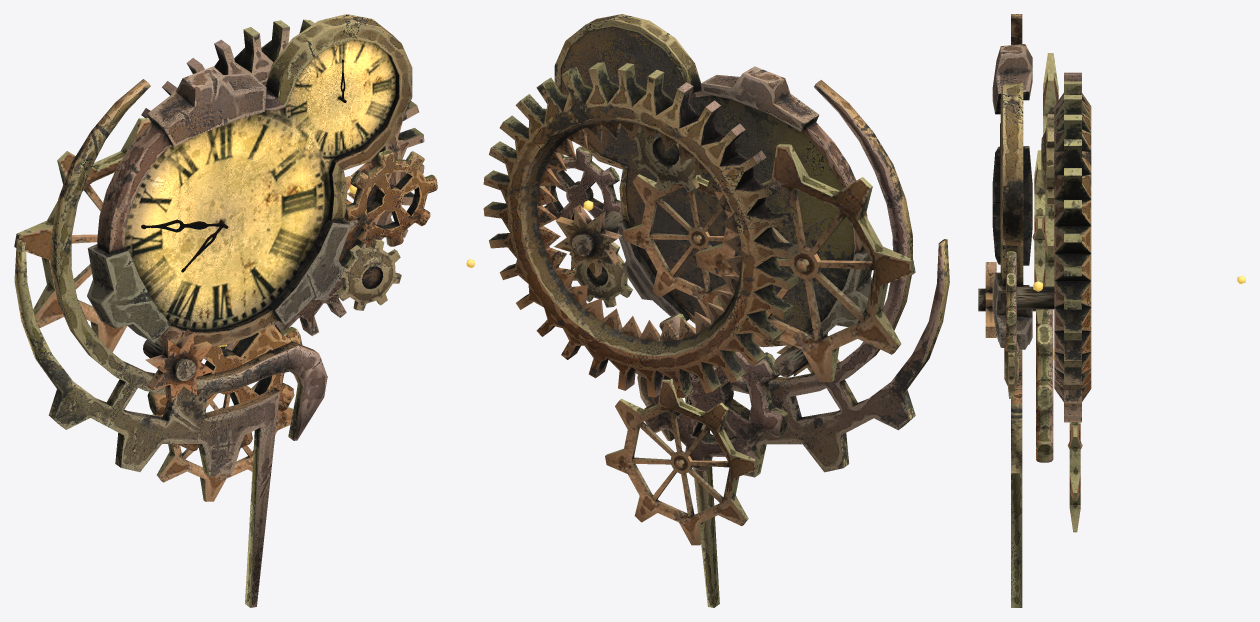
The model's file is Spawnpoint_Clock.fbx.
The picture shows the model from 3 angles, left to right: view 1: azimuth 30°, elevation 25°; view 2: azimuth 150°, elevation 25°; view 3: azimuth 270°, elevation 25°; orthographic projection.
Parts seen in each view (by area): view 1: Cylinder004, outerdecoration, Object003_Material__3_0, Object002_Material__3_0, Object007_Material__3_0, Object006_Material__3_0, Object004_Material__3_0, Object001_Material__3_0, Object005_Material__3_0; view 2: Object003_Material__3_0, Cylinder004, outerdecoration, Object007_Material__3_0, Object005_Material__3_0, Object006_Material__3_0, Object008_Material__3_0, Object002_Material__3_0, Object009_Material__3_0, Object010_Material__3_0, Object001_Material__3_0, Object004_Material__3_0; view 3: Object003_Material__3_0, Cylinder004, outerdecoration, Object006_Material__3_0, Object007_Material__3_0, Object008_Material__3_0, Object005_Material__3_0, Object002_Material__3_0, Object010_Material__3_0, Object004_Material__3_0, Object009_Material__3_0, Object001_Material__3_0.
Boxes of the visible parts, box(x1,y1,x2,y2) form: Cylinder004: box(87, 14, 412, 346); outerdecoration: box(14, 79, 327, 607); Object003_Material__3_0: box(141, 19, 424, 350); Object002_Material__3_0: box(344, 149, 437, 246); Object007_Material__3_0: box(14, 118, 151, 352); Object006_Material__3_0: box(147, 324, 302, 451); Object004_Material__3_0: box(143, 329, 213, 402); Object001_Material__3_0: box(337, 239, 401, 310); Object005_Material__3_0: box(152, 340, 293, 501); Object003_Material__3_0: box(483, 62, 798, 398); Cylinder004: box(554, 14, 871, 347); outerdecoration: box(637, 80, 949, 607); Object007_Material__3_0: box(695, 144, 915, 382); Object005_Material__3_0: box(605, 379, 758, 545); Object006_Material__3_0: box(635, 313, 788, 470); Object008_Material__3_0: box(622, 174, 731, 319); Object002_Material__3_0: box(544, 146, 622, 220); Object009_Material__3_0: box(554, 204, 623, 277); Object010_Material__3_0: box(628, 127, 699, 192); Object001_Material__3_0: box(569, 242, 632, 307); Object004_Material__3_0: box(774, 332, 839, 377); Object003_Material__3_0: box(1054, 72, 1091, 422); Cylinder004: box(992, 44, 1032, 349); outerdecoration: box(1011, 14, 1022, 607); Object006_Material__3_0: box(1036, 309, 1053, 462); Object007_Material__3_0: box(1043, 53, 1058, 286); Object008_Material__3_0: box(1032, 150, 1047, 323); Object005_Material__3_0: box(1067, 422, 1082, 532); Object002_Material__3_0: box(1006, 251, 1016, 352); Object010_Material__3_0: box(1041, 114, 1054, 207); Object004_Material__3_0: box(978, 262, 1035, 337); Object009_Material__3_0: box(1017, 286, 1054, 309); Object001_Material__3_0: box(1004, 341, 1018, 398).
Size of the model in its own units: 225 by 282 by 123.
Materials: 1 (1 with a texture image).
